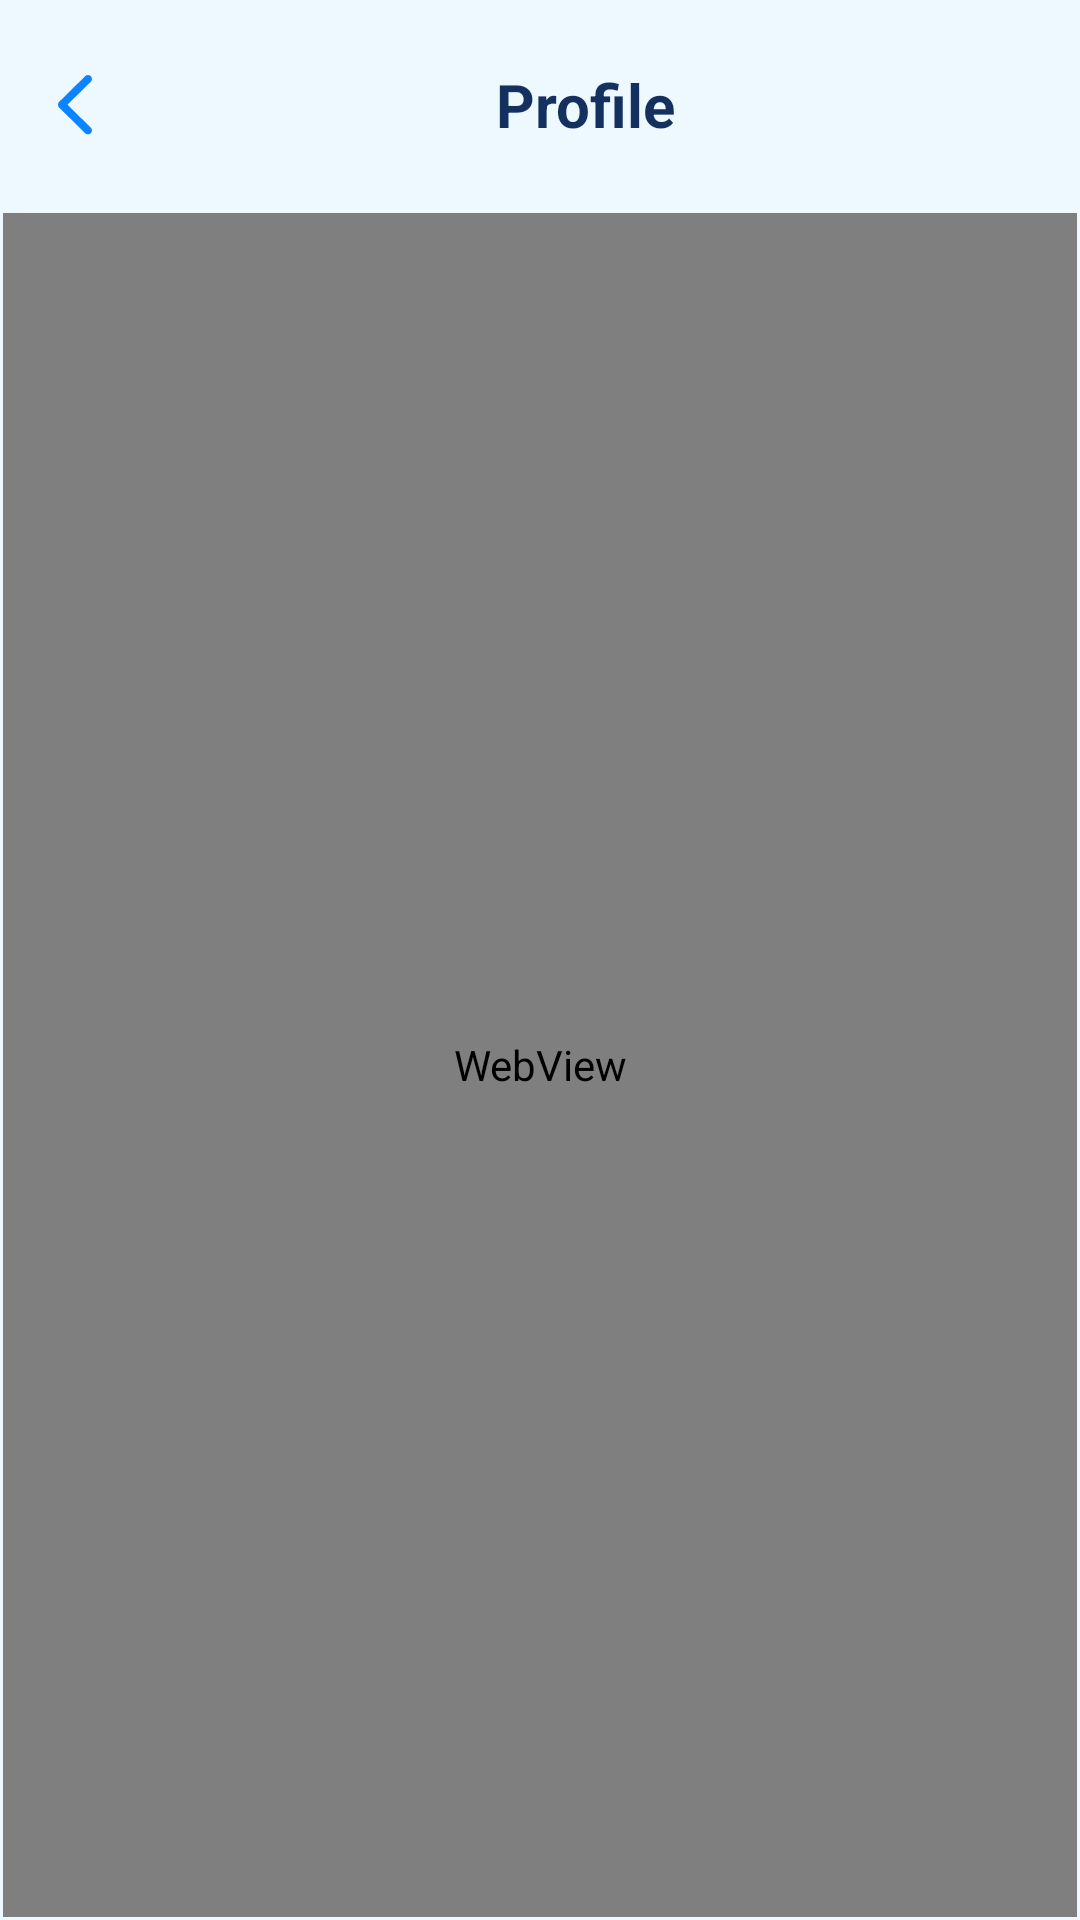

Screen size 1080px x 1920px. Icon name, then its center in pixels as [x,y]:
back: [75,105]
